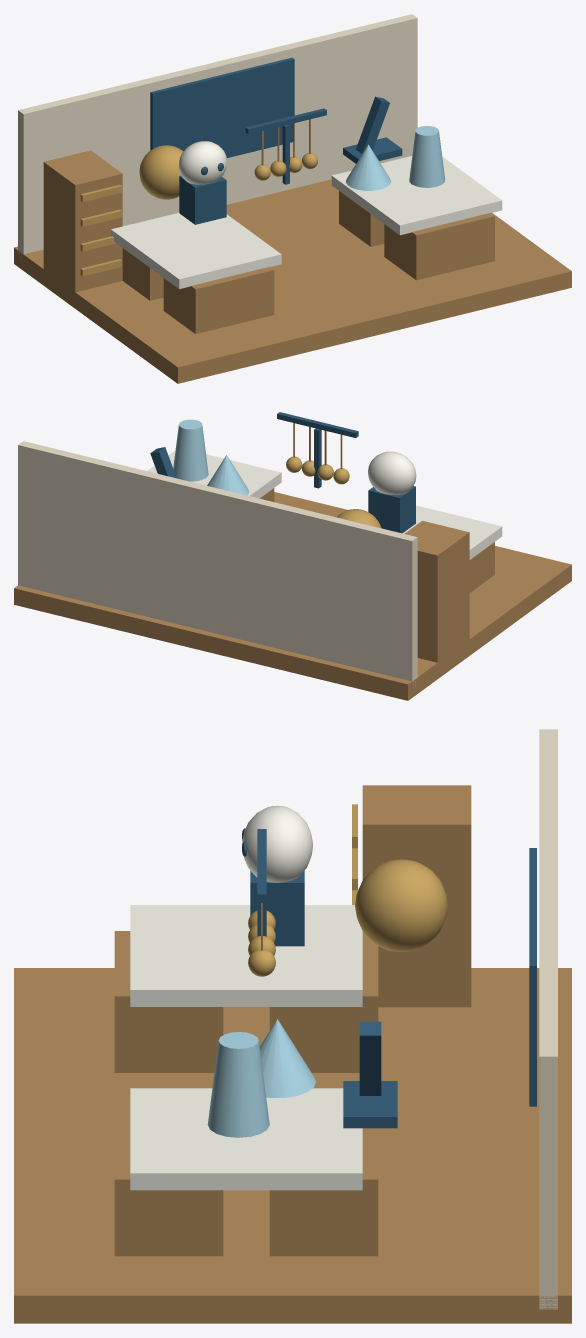
Rendered from learning.glb.
3 renders of one model, top to bottom at view 1: azimuth 30°, elevation 25°; view 2: azimuth 150°, elevation 25°; view 3: azimuth 270°, elevation 25°, orthographic. The views are drawn at different scales.
Size of the model in its own units: 5 by 2.03 by 3.6.
